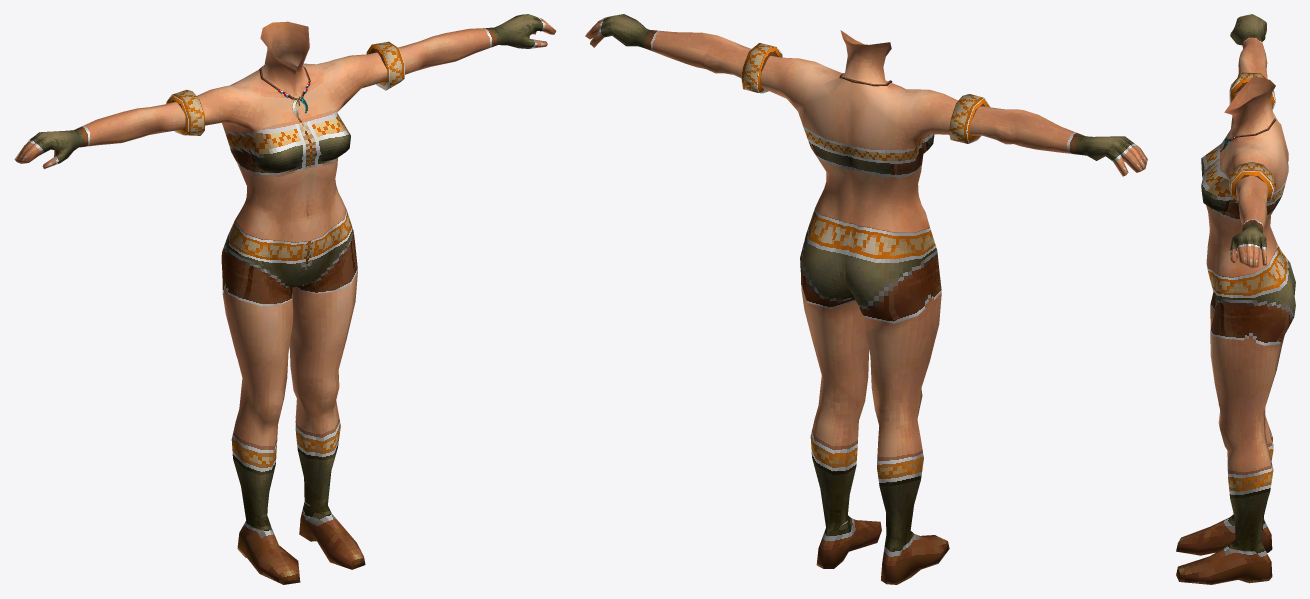
Rendered from f_body000.obj.
3 renders of one model, left to right at view 1: azimuth 30°, elevation 25°; view 2: azimuth 150°, elevation 25°; view 3: azimuth 270°, elevation 25°, orthographic. The views are drawn at different scales.
Parts seen in each view (by area): view 1: editpl_f-0000-26, editpl_f-0000-25, editpl_f-0000-24; view 2: editpl_f-0000-26, editpl_f-0000-25, editpl_f-0000-24; view 3: editpl_f-0000-26, editpl_f-0000-25, editpl_f-0000-24.
Boxes of the visible parts, x1,y1,x2,y2 form: editpl_f-0000-26: (221, 210, 365, 584); editpl_f-0000-25: (197, 21, 387, 242); editpl_f-0000-24: (14, 14, 556, 168); editpl_f-0000-26: (800, 208, 949, 584); editpl_f-0000-25: (760, 30, 957, 232); editpl_f-0000-24: (585, 14, 1147, 176); editpl_f-0000-26: (1176, 244, 1295, 584); editpl_f-0000-25: (1201, 76, 1288, 277); editpl_f-0000-24: (1229, 14, 1275, 267).
Bounding box in the file's own units: 173 × 159 × 36.08.
